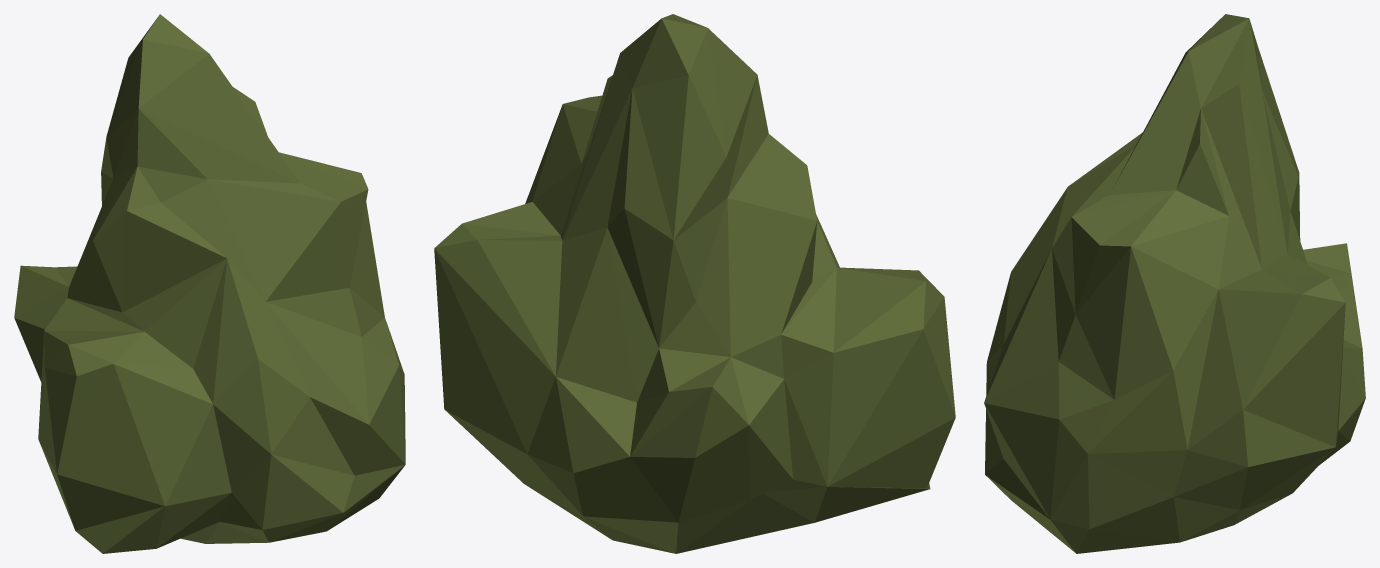
File: bush_b.glb
3 renders of one model, left to right at view 1: azimuth 30°, elevation 25°; view 2: azimuth 150°, elevation 25°; view 3: azimuth 270°, elevation 25°, orthographic. The views are drawn at different scales.
Parts seen in each view (by area): view 1: SM_Env_Bush_02; view 2: SM_Env_Bush_02; view 3: SM_Env_Bush_02.
Boxes of the visible parts, box(x1,y1,x2,y2) form: SM_Env_Bush_02: box(14, 14, 405, 553); SM_Env_Bush_02: box(434, 14, 955, 553); SM_Env_Bush_02: box(984, 14, 1365, 553).
Bounding box in the file's own units: 161 × 204 × 141.
1 material, 1 textured.
